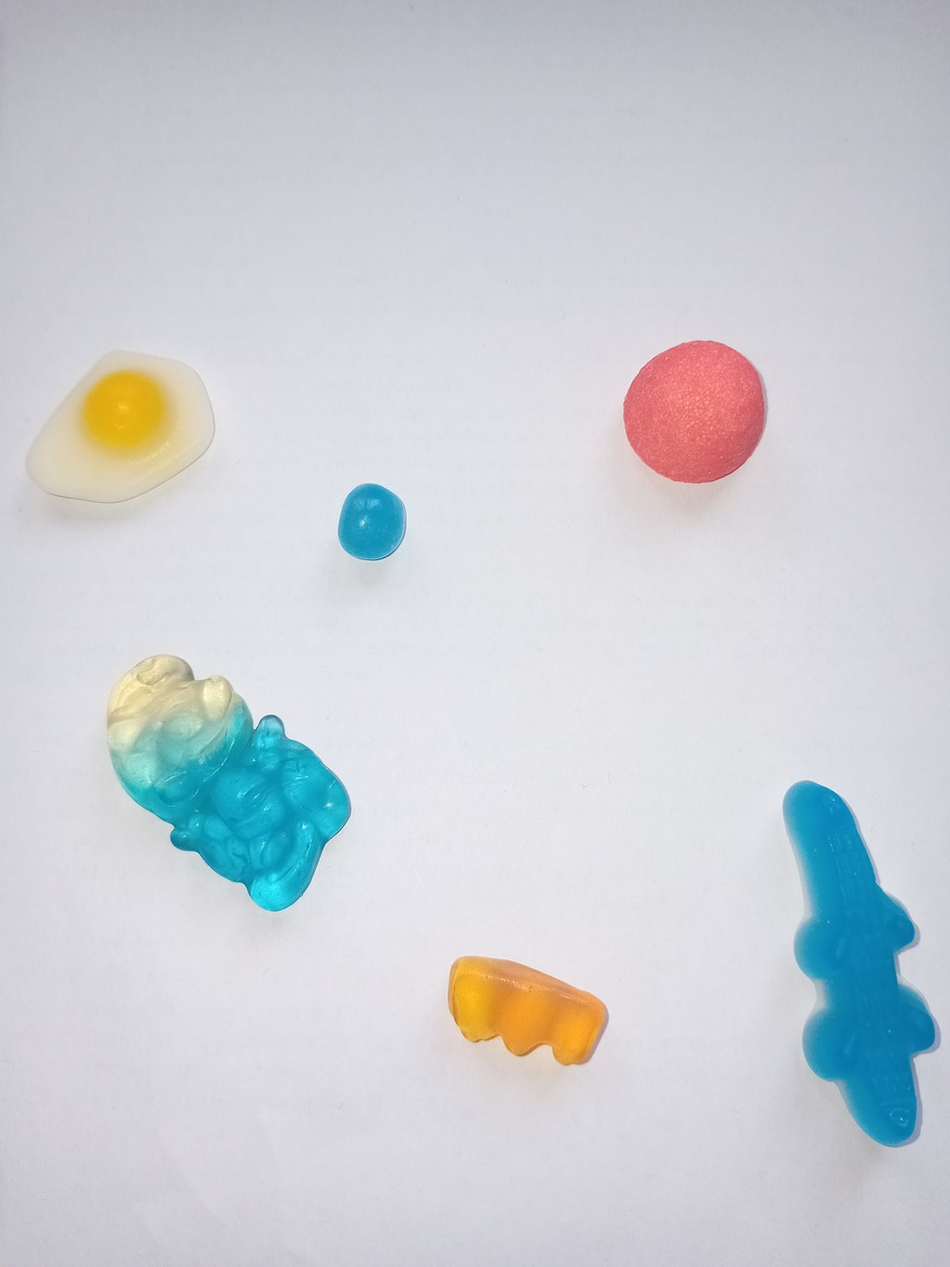crocodile_bleu: (763, 768, 943, 1154)
dragibus_bleu: (331, 475, 412, 563)
oeuf_oeuf: (23, 347, 221, 506)
ourson_orangeClair: (437, 947, 614, 1071)
schtroumpf_bleu-blanc: (99, 646, 356, 920)
tagada_fraise: (606, 335, 775, 493)
